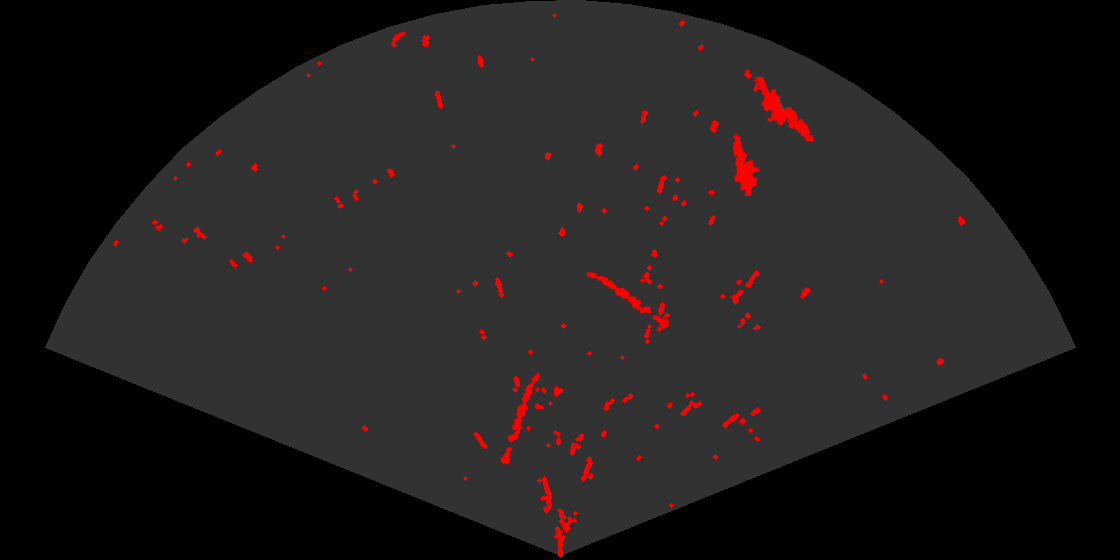chain: (585, 270, 671, 331), (499, 371, 542, 467)
frogman: (754, 77, 816, 144), (731, 132, 762, 196)
